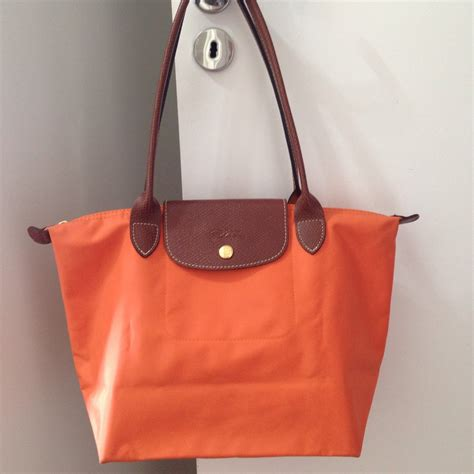nylon: (49, 209, 399, 462)
